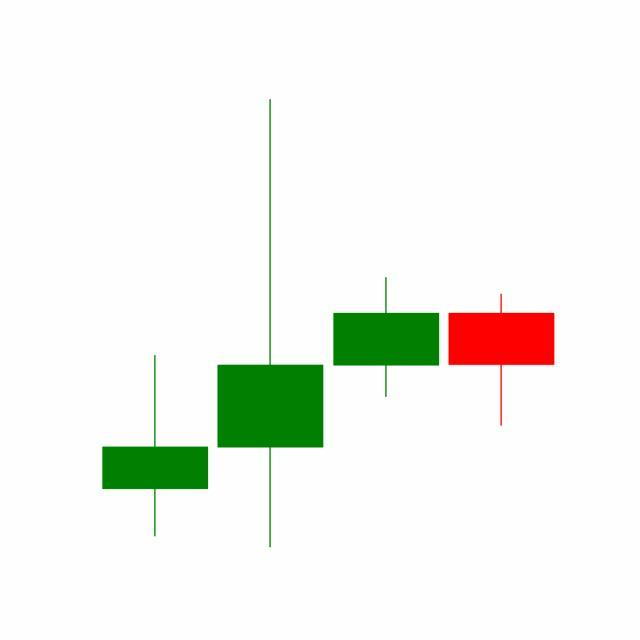Hanging Man: (444, 293, 560, 428)
